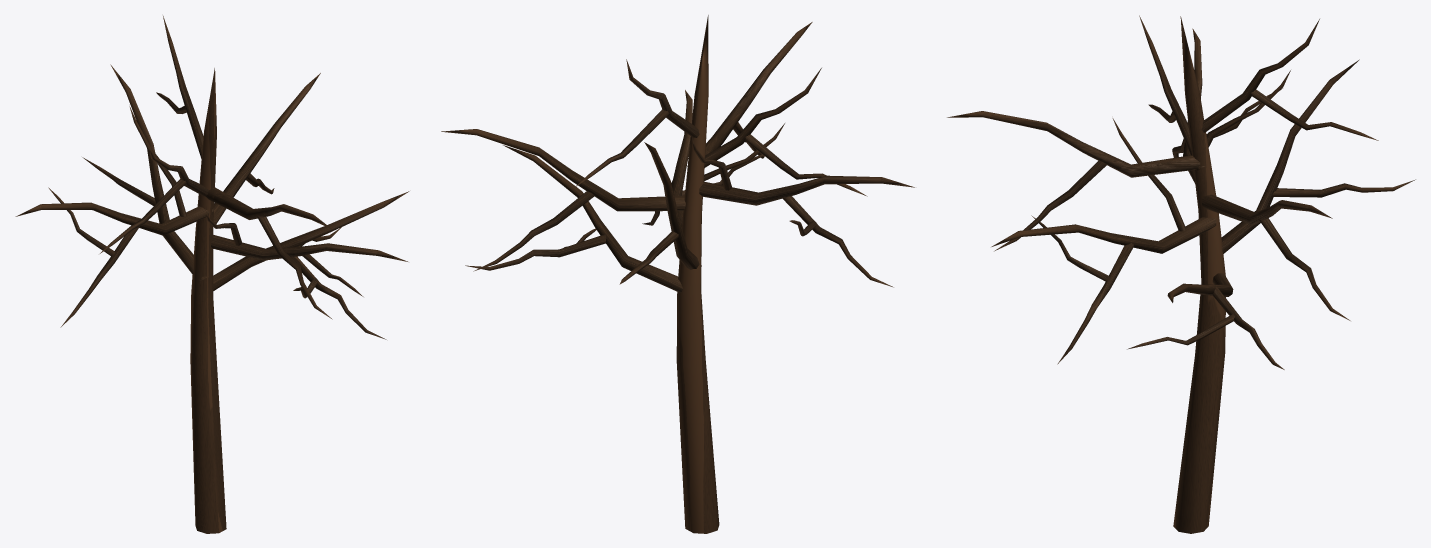
The model's file is tree_copy.obj.
3 renders of one model, left to right at view 1: azimuth 30°, elevation 25°; view 2: azimuth 150°, elevation 25°; view 3: azimuth 270°, elevation 25°, orthographic. The views are drawn at different scales.
Visible parts, largest first — view 1: Object_96, Object_76, Object_82, Object_54, Object_62, Object_68, Object_90, Object_94, Object_88, Object_86, Object_66, Object_72 (+2 smaller); view 2: Object_96, Object_68, Object_82, Object_54, Object_90, Object_62, Object_64, Object_58, Object_70, Object_76, Object_86, Object_94 (+2 smaller); view 3: Object_96, Object_90, Object_76, Object_62, Object_68, Object_94, Object_64, Object_60, Object_72, Object_70, Object_88, Object_92 (+4 smaller).
Part boxes in pixels (left/top/right/bottom): Object_96: left=190, top=68, right=226, bottom=533; Object_76: left=211, top=235, right=407, bottom=261; Object_82: left=15, top=202, right=213, bottom=235; Object_54: left=213, top=191, right=409, bottom=290; Object_62: left=110, top=64, right=208, bottom=281; Object_68: left=213, top=73, right=320, bottom=223; Object_90: left=205, top=187, right=332, bottom=229; Object_94: left=163, top=16, right=203, bottom=158; Object_88: left=257, top=216, right=332, bottom=319; Object_86: left=60, top=225, right=139, bottom=327; Object_66: left=100, top=179, right=186, bottom=253; Object_72: left=291, top=256, right=386, bottom=339; Object_96: left=676, top=15, right=719, bottom=533; Object_68: left=441, top=129, right=685, bottom=211; Object_82: left=699, top=175, right=914, bottom=205; Object_54: left=503, top=145, right=684, bottom=292; Object_90: left=705, top=22, right=812, bottom=155; Object_62: left=644, top=142, right=701, bottom=269; Object_64: left=687, top=68, right=821, bottom=167; Object_58: left=465, top=235, right=606, bottom=270; Object_70: left=473, top=191, right=594, bottom=271; Object_76: left=672, top=90, right=692, bottom=226; Object_86: left=783, top=196, right=893, bottom=287; Object_94: left=626, top=59, right=699, bottom=137; Object_96: left=1173, top=16, right=1225, bottom=533; Object_90: left=947, top=111, right=1200, bottom=177; Object_76: left=991, top=217, right=1216, bottom=253; Object_62: left=1221, top=59, right=1359, bottom=253; Object_68: left=1201, top=194, right=1332, bottom=225; Object_94: left=1201, top=19, right=1319, bottom=132; Object_64: left=1139, top=15, right=1205, bottom=170; Object_60: left=1272, top=179, right=1415, bottom=197; Object_72: left=1057, top=243, right=1133, bottom=364; Object_70: left=1259, top=218, right=1350, bottom=320; Object_88: left=994, top=161, right=1106, bottom=251; Object_92: left=1251, top=89, right=1378, bottom=140.
Bounding box in the file's own units: 7.75 × 8.98 × 7.43.
